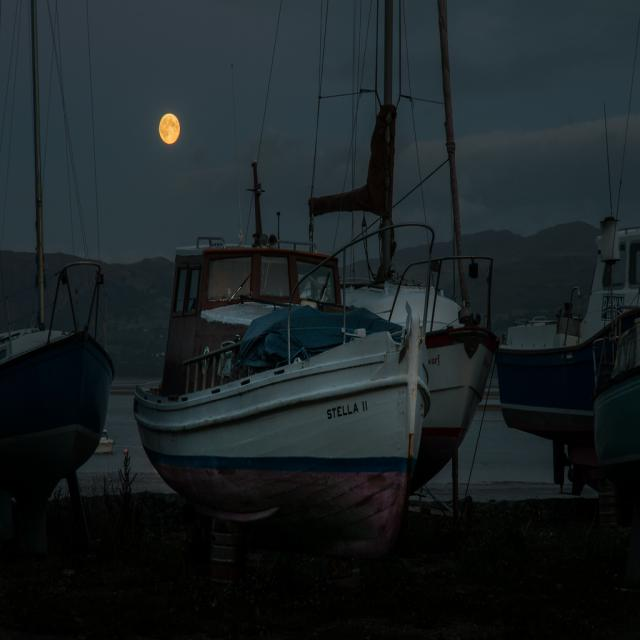Boat: (148, 217, 432, 626), (316, 18, 508, 494), (0, 0, 129, 532), (500, 186, 640, 565)
